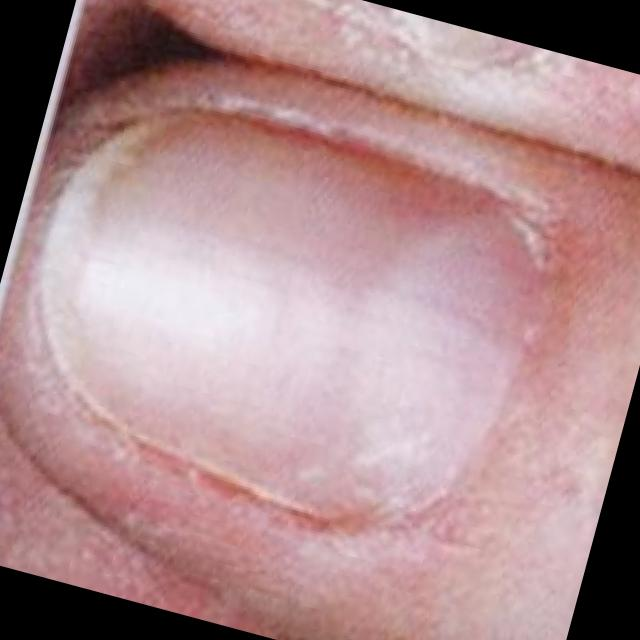Nail: (32, 108, 533, 529)
